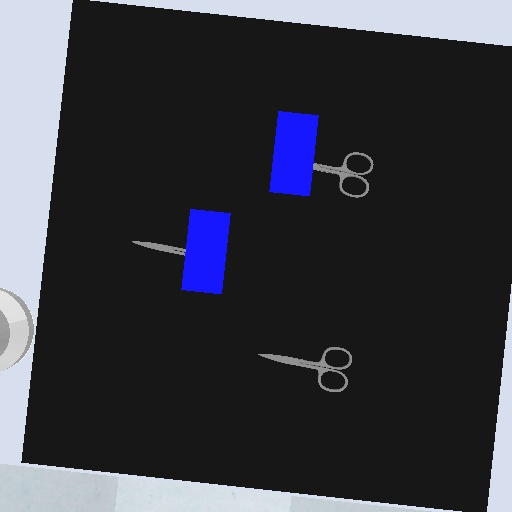tijera: (254, 342, 358, 395), (312, 148, 377, 200), (129, 235, 188, 260)
